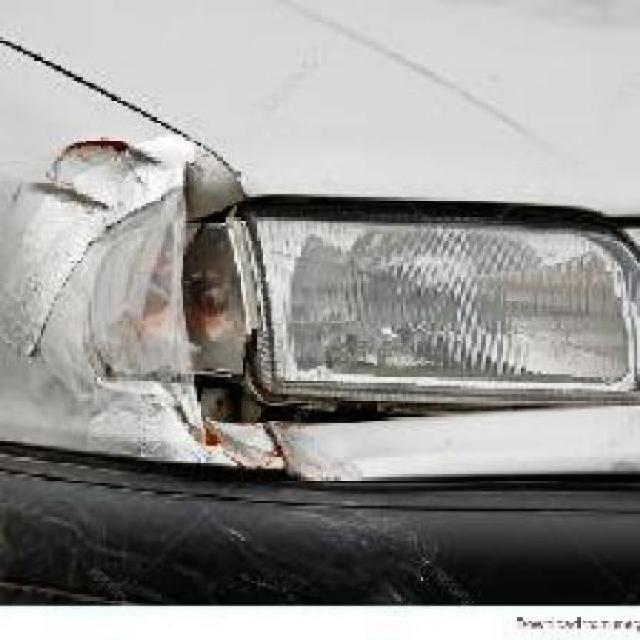damaged-head-light: (92, 206, 640, 425)
dent-or-scratch: (39, 499, 326, 561), (2, 156, 78, 332)
